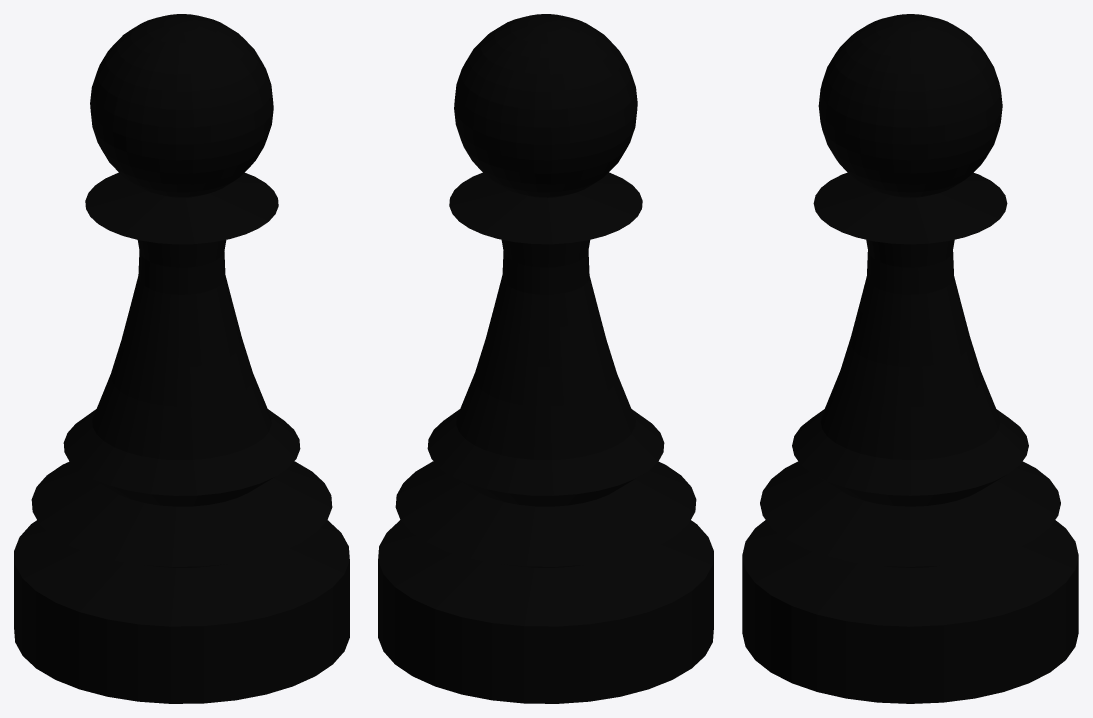
The model's file is pawn.obj.
3 views of the same model, side by side, from view 1: azimuth 30°, elevation 25°; view 2: azimuth 150°, elevation 25°; view 3: azimuth 270°, elevation 25° (orthographic).
Parts seen in each view (by area): view 1: Cube.015; view 2: Cube.015; view 3: Cube.015.
Boxes of the visible parts, bbox=[...] form: Cube.015: bbox=[14, 14, 349, 703]; Cube.015: bbox=[378, 14, 713, 703]; Cube.015: bbox=[742, 14, 1078, 703].
Bounding box in the file's own units: 1.6 × 3.2 × 1.6.
